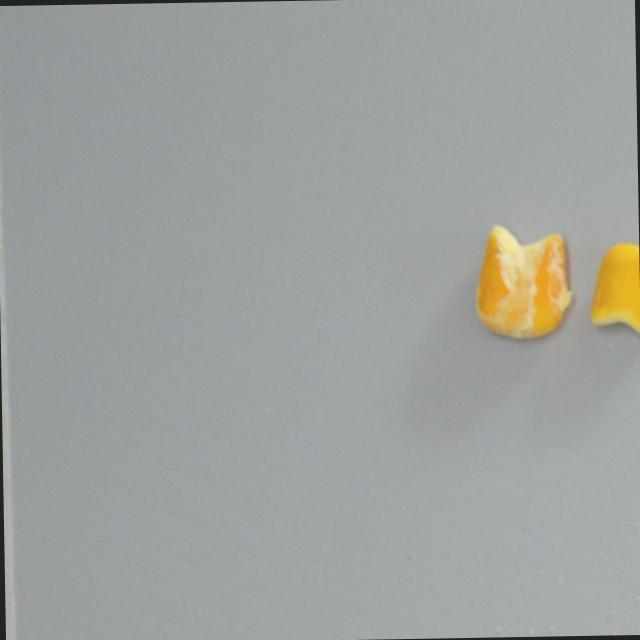pelicula: (465, 209, 576, 350)
